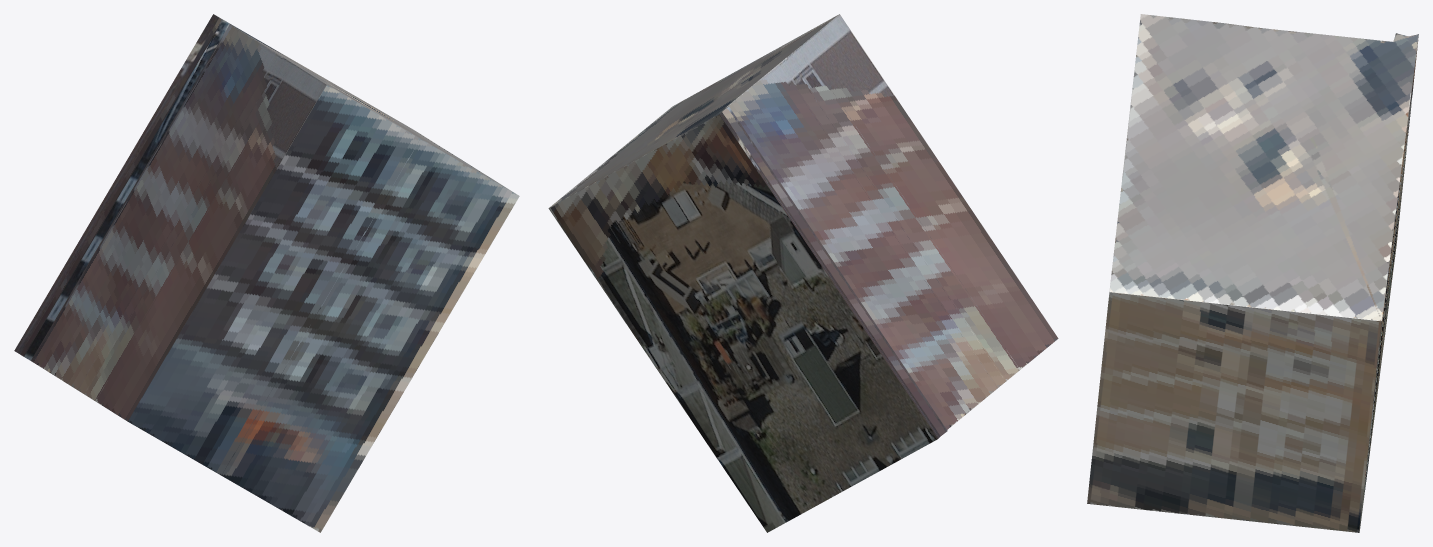
3 renders of one model, left to right at view 1: azimuth 30°, elevation 25°; view 2: azimuth 150°, elevation 25°; view 3: azimuth 270°, elevation 25°, orthographic. The views are drawn at different scales.
Visible parts, largest first — view 1: BAG_0599100000656929 (×4); view 2: BAG_0599100000656929 (×3); view 3: BAG_0599100000656929 (×2).
Boxes of the visible parts, x1,y1,x2,y2 form: BAG_0599100000656929 (×4): (14, 14, 519, 532); BAG_0599100000656929 (×3): (548, 14, 1058, 532); BAG_0599100000656929 (×2): (1087, 14, 1418, 532).
Bounding box in the file's own units: 19.37 × 20.72 × 11.75.
4 materials, 4 textured.
